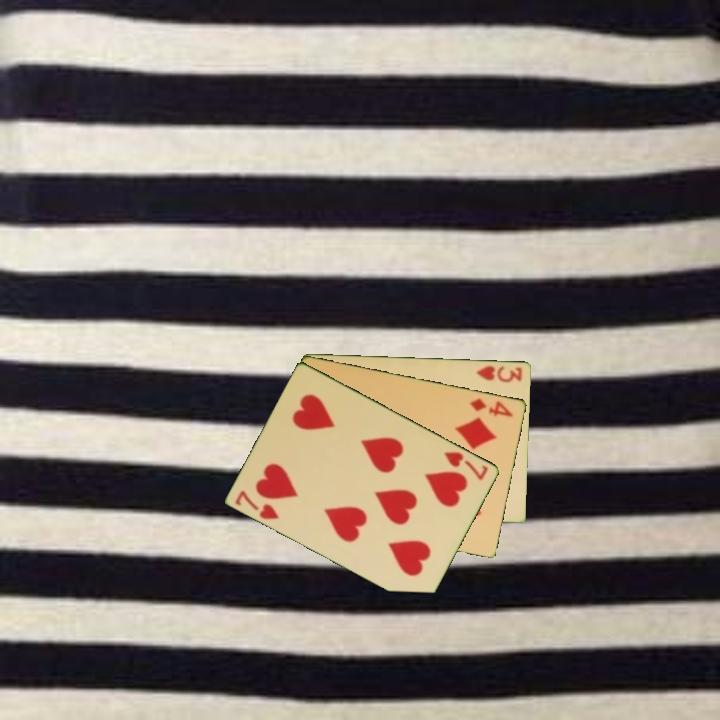3h: (473, 362, 525, 385)
4d: (467, 394, 516, 419)
7h: (441, 448, 492, 483), (232, 487, 283, 522)
